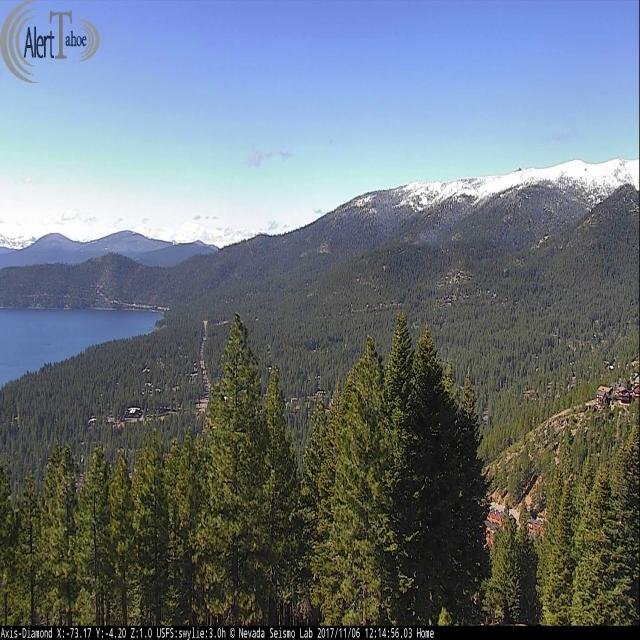smoke: (410, 222, 453, 245)
